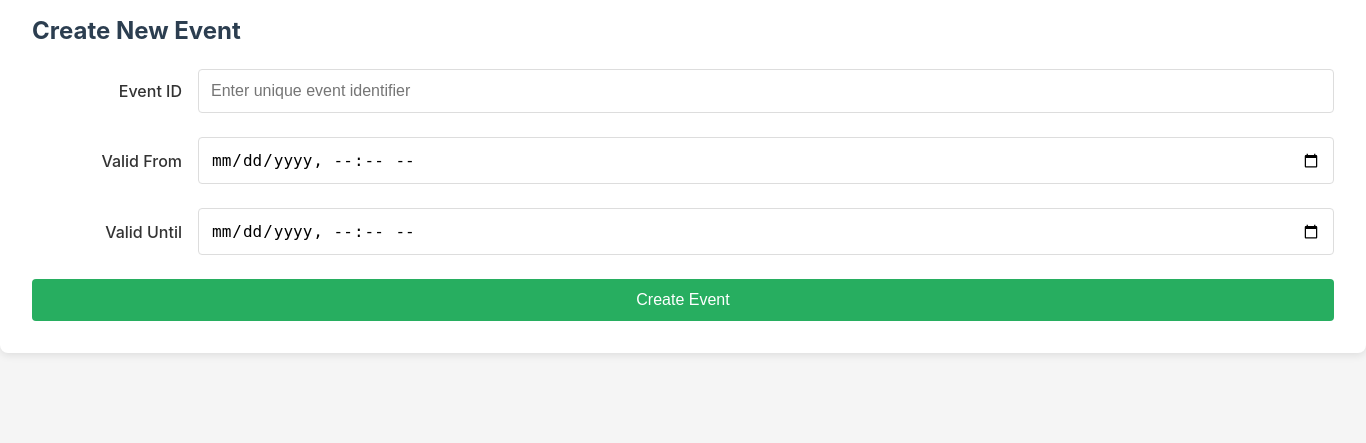
it: CreateEventForm › should display error message when event creation fails
The image size is (1366, 443).
Type "test-event" into the field named "eventID". click: (766,91)
box: [198,69,1334,113]
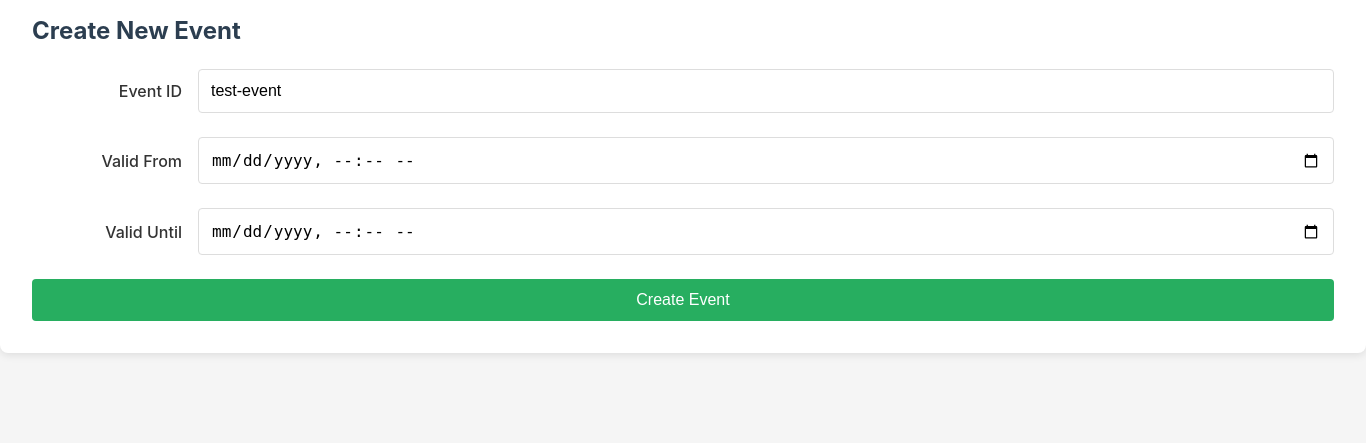
Submit the form
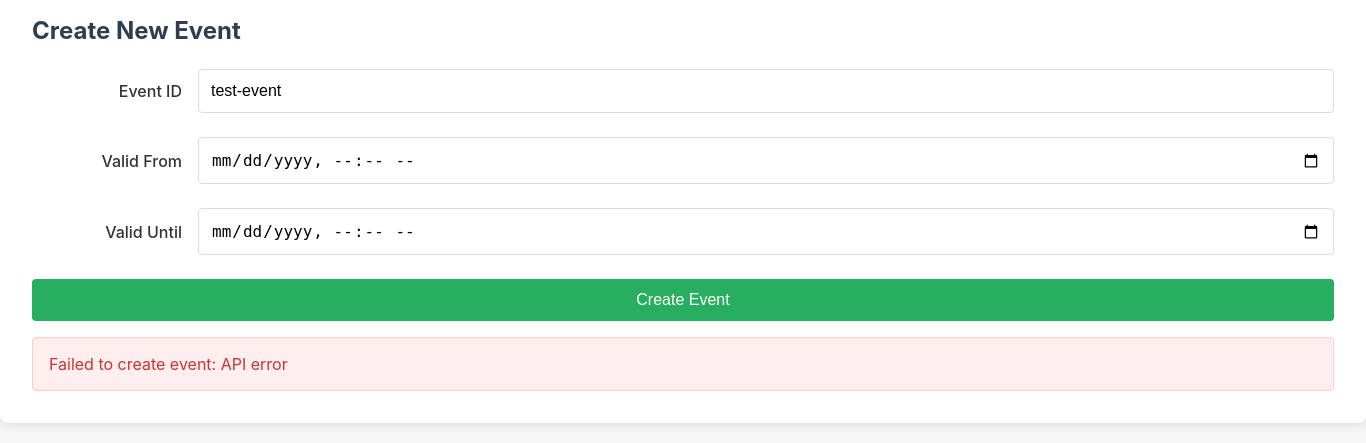
Now the text "Failed to create event" is shown, box [49,354,288,374]
